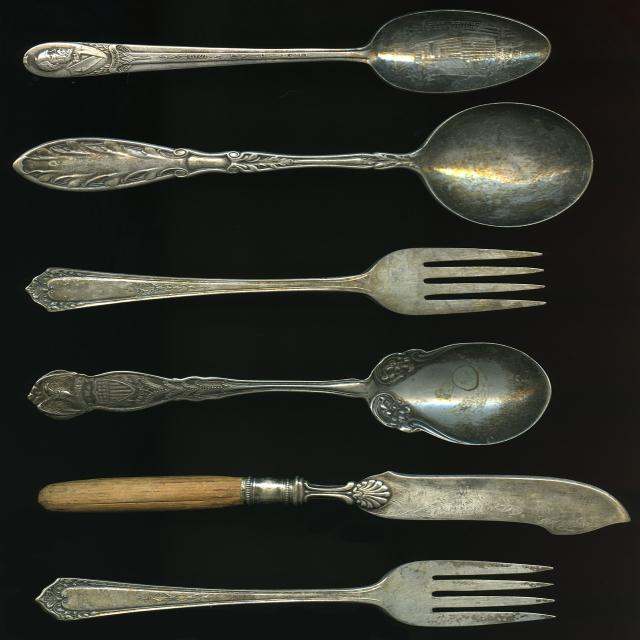Knife: (39, 471, 629, 534)
